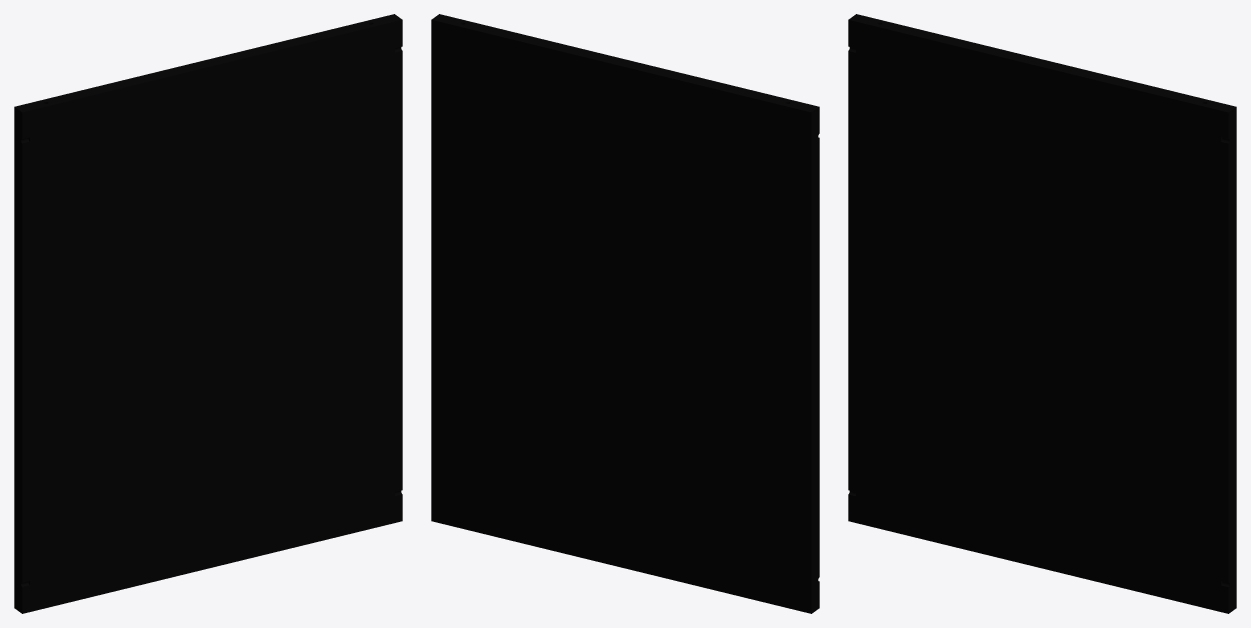
The model's file is Door_Panel_702x557.glb.
The picture shows the model from 3 angles, left to right: view 1: azimuth 30°, elevation 25°; view 2: azimuth 150°, elevation 25°; view 3: azimuth 330°, elevation 25°; orthographic projection.
Parts seen in each view (by area): view 1: Door_Panel_702x557; view 2: Door_Panel_702x557; view 3: Door_Panel_702x557.
Part boxes in pixels (bbox=[...]): Door_Panel_702x557: bbox=[14, 14, 402, 613]; Door_Panel_702x557: bbox=[431, 14, 819, 613]; Door_Panel_702x557: bbox=[848, 14, 1236, 613].
Bounding box in the file's own units: 0.557 × 0.702 × 0.02.
Materials: 1 (1 with a texture image).
